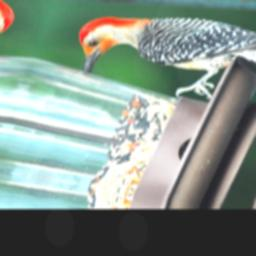Woodpecker: (61, 0, 256, 112)
